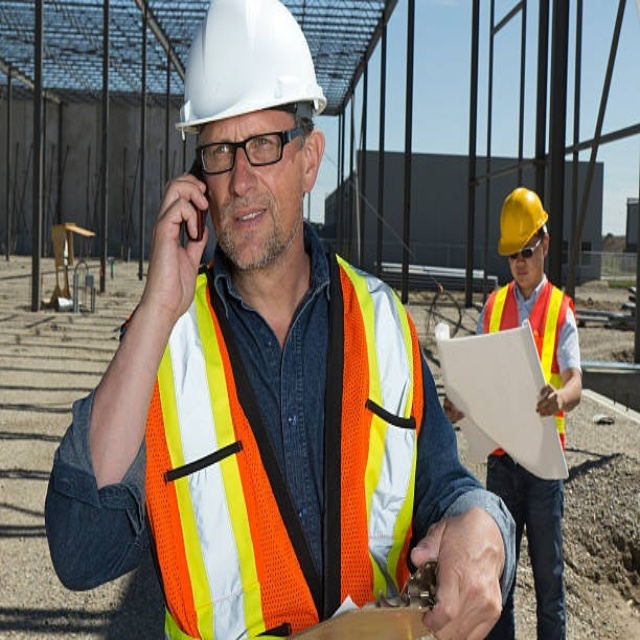Gafas: (193, 122, 305, 174), (509, 232, 545, 259)
Sin_guantes: (406, 503, 506, 639), (144, 169, 207, 312), (536, 383, 562, 416), (443, 395, 465, 425)
Sin_mascara: (224, 195, 274, 262), (512, 264, 531, 285)
